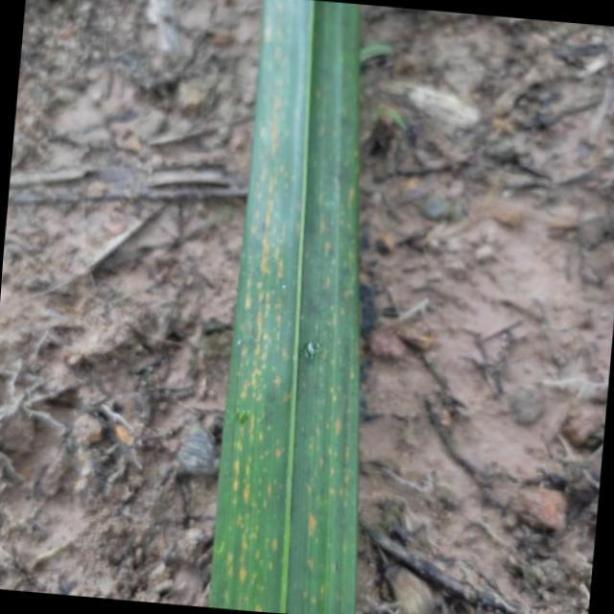Kalium: (212, 0, 367, 614)
